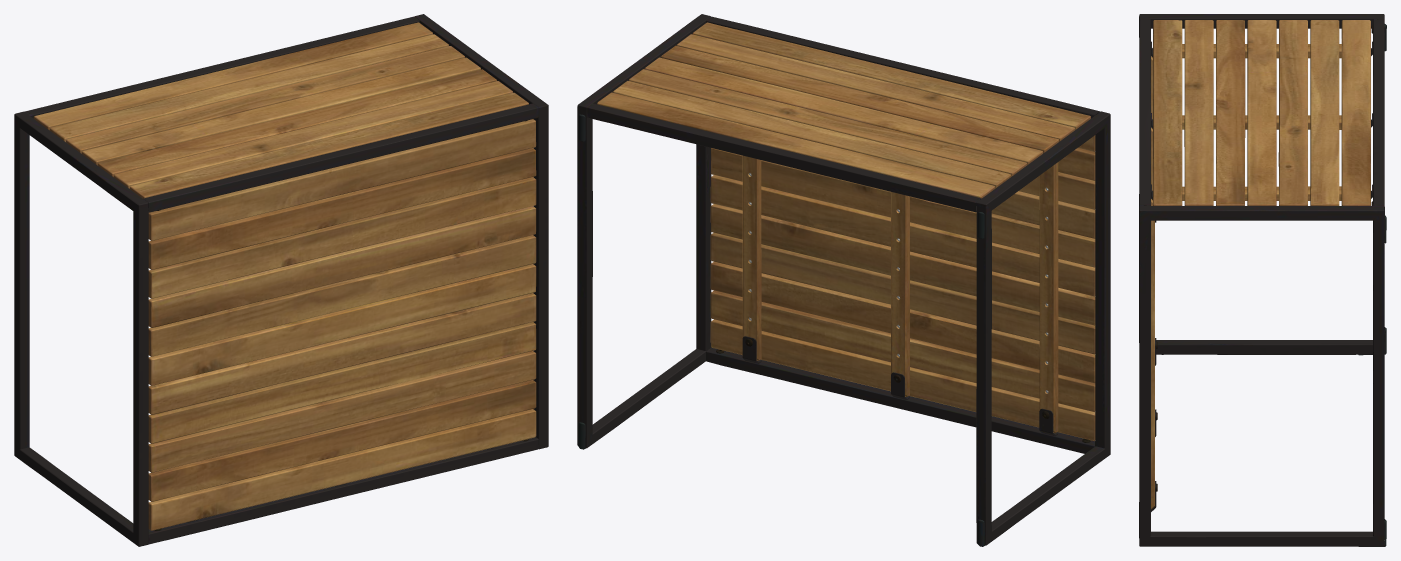
3 renders of one model, left to right at view 1: azimuth 30°, elevation 25°; view 2: azimuth 150°, elevation 25°; view 3: azimuth 270°, elevation 25°, orthographic.
Parts seen in each view (by area): view 1: ASY_ART_70597162_S01_NV01; view 2: ASY_ART_70597162_S01_NV01; view 3: ASY_ART_70597162_S01_NV01.
Boxes of the visible parts, <box> form: ASY_ART_70597162_S01_NV01: <box>14,14,548,546</box>; ASY_ART_70597162_S01_NV01: <box>577,14,1110,546</box>; ASY_ART_70597162_S01_NV01: <box>1139,14,1386,546</box>.
Bounding box in the file's own units: 0.8001 × 0.6416 × 0.4257.
1 material, 1 textured.
